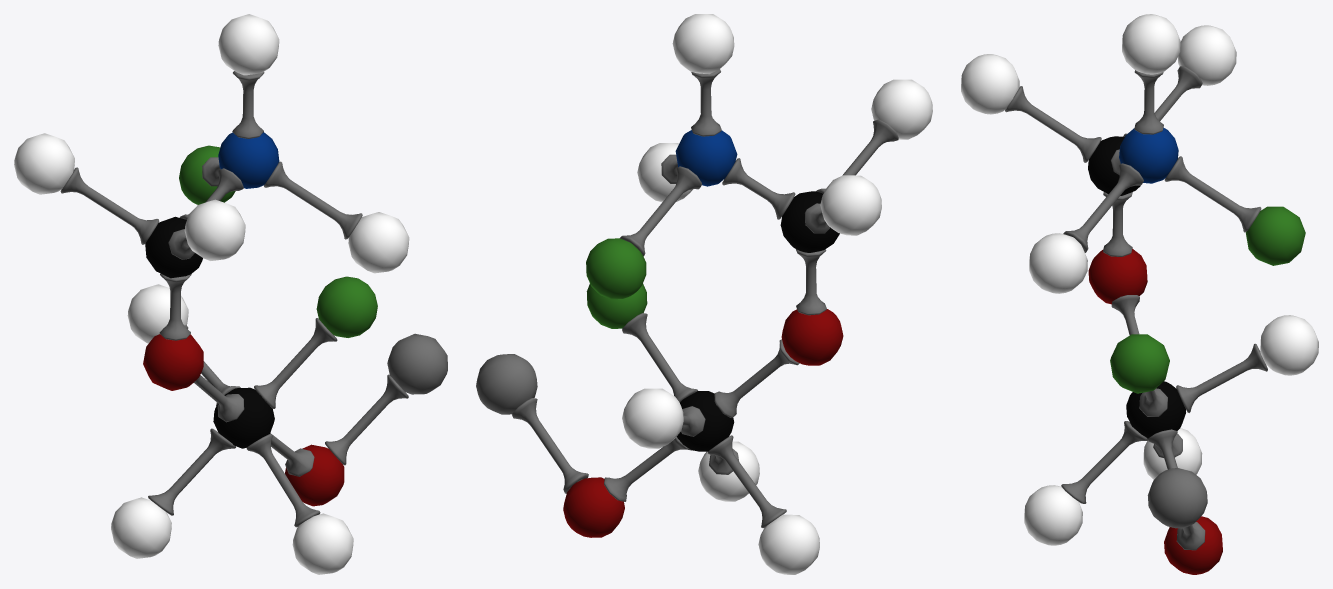
File: chemical_molecular structure.FBX
3 views of the same model, side by side, from view 1: azimuth 30°, elevation 25°; view 2: azimuth 150°, elevation 25°; view 3: azimuth 270°, elevation 25° (orthographic). The views are drawn at different scales.
Visible parts, largest first — view 1: chemical_molecular structure; view 2: chemical_molecular structure; view 3: chemical_molecular structure.
Part boxes in pixels (<box>): chemical_molecular structure: <box>14,14,447,574</box>; chemical_molecular structure: <box>476,14,932,574</box>; chemical_molecular structure: <box>961,14,1318,574</box>.
Size of the model in its own units: 33.88 by 41.24 by 26.04.
